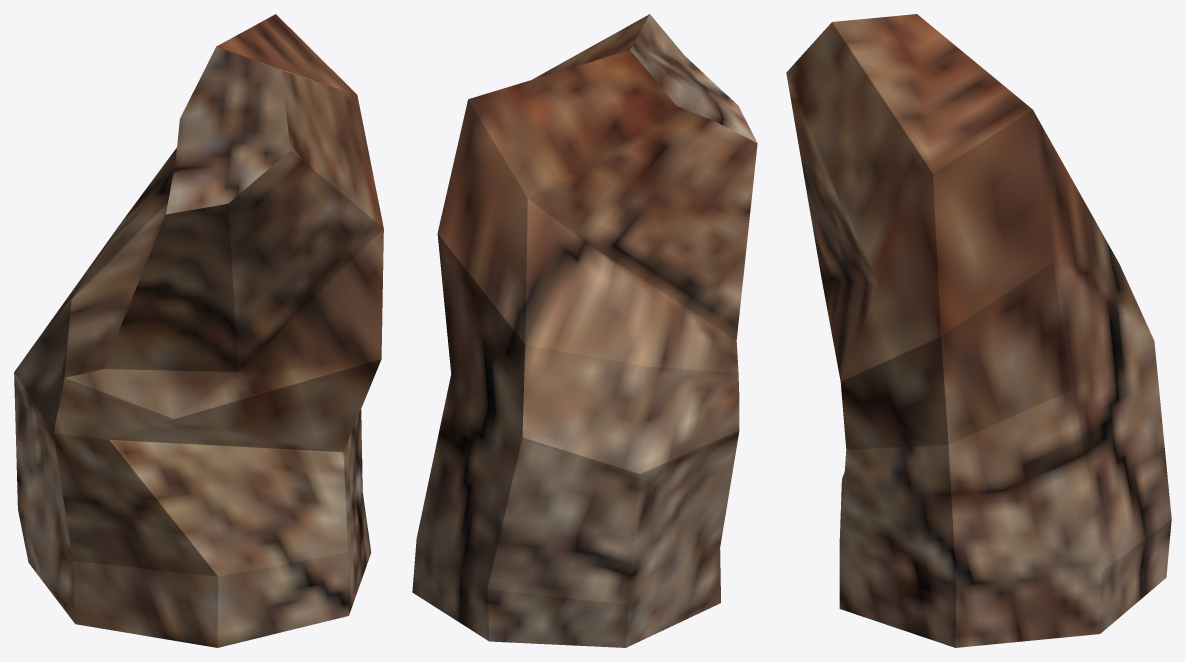
Rendered from obstacle-1.fbx.
3 renders of one model, left to right at view 1: azimuth 30°, elevation 25°; view 2: azimuth 150°, elevation 25°; view 3: azimuth 270°, elevation 25°, orthographic. The views are drawn at different scales.
Parts seen in each view (by area): view 1: Cylinder; view 2: Cylinder; view 3: Cylinder.
Boxes of the visible parts, x1,y1,x2,y2 form: Cylinder: (14, 14, 383, 647); Cylinder: (412, 14, 757, 647); Cylinder: (786, 14, 1171, 647).
Size of the model in its own units: 210 by 357 by 225.
